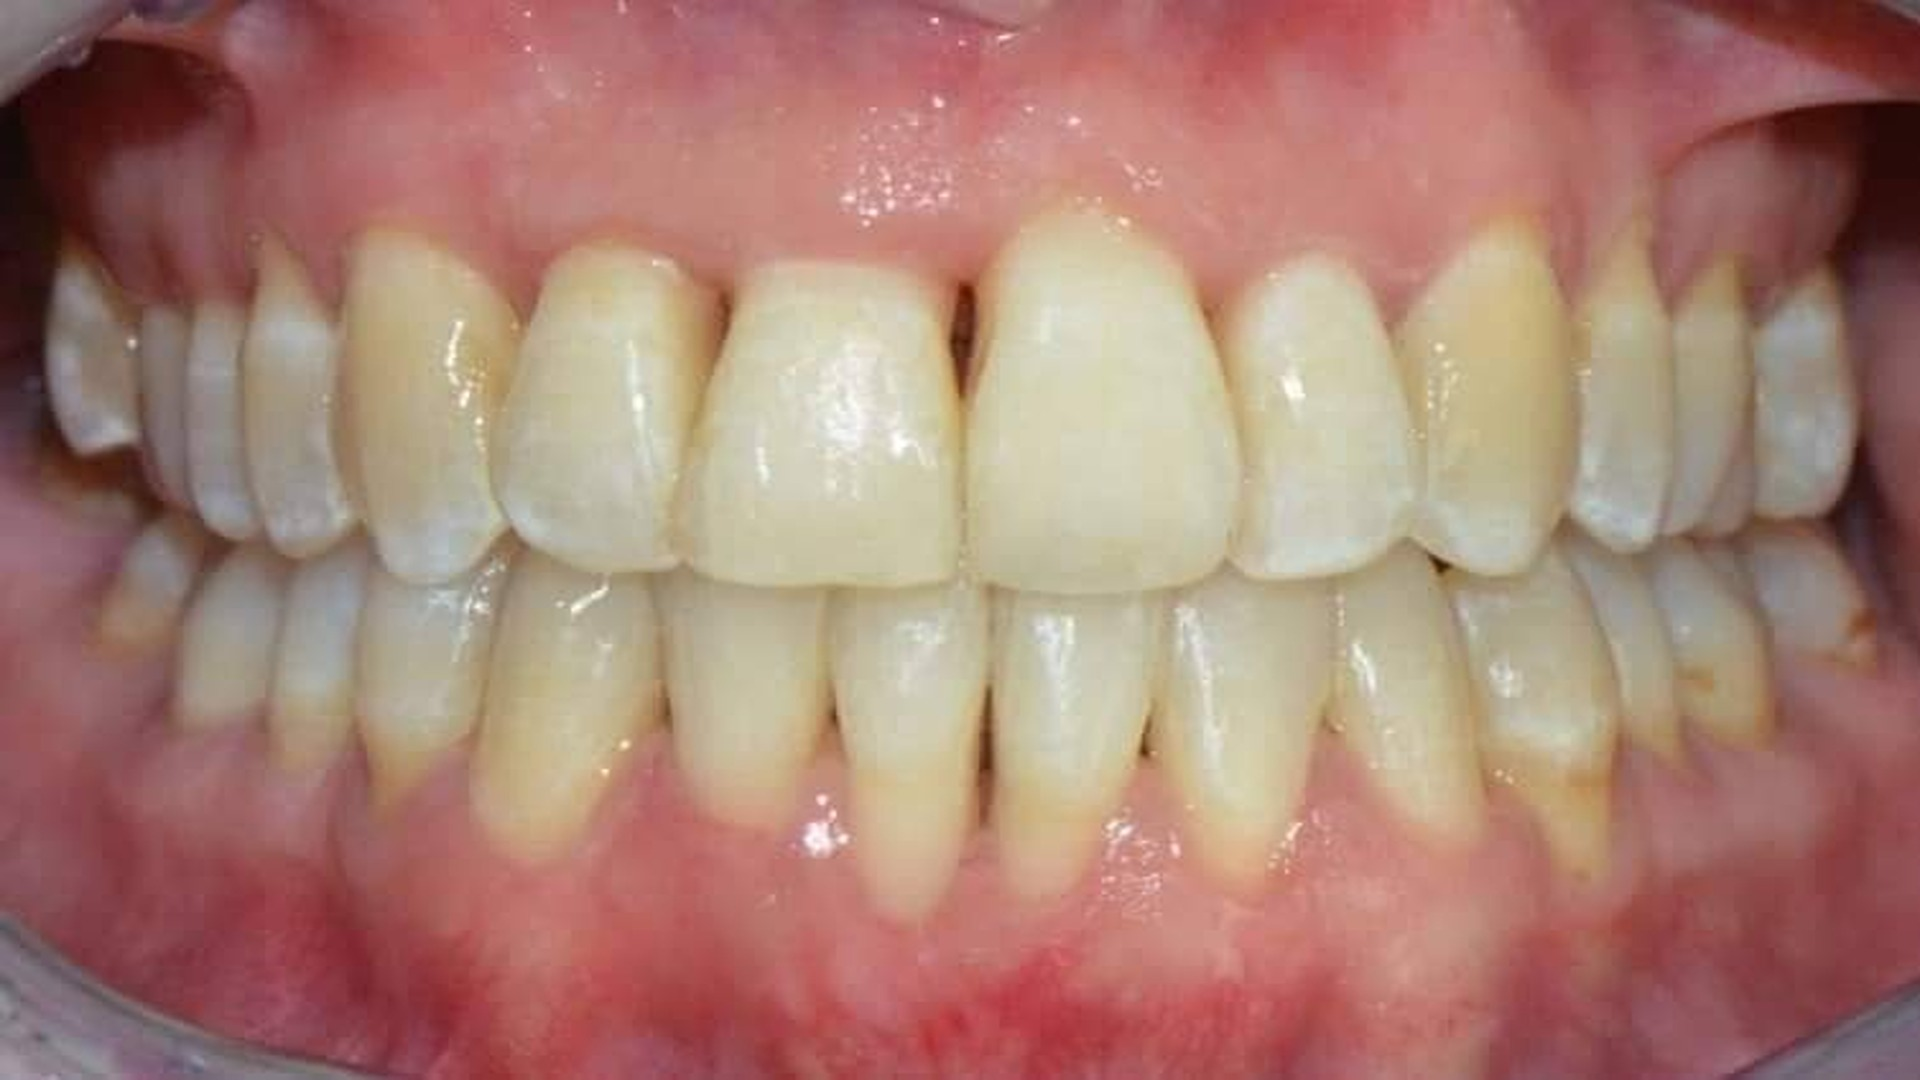tooth: (964, 207, 1242, 595), (671, 262, 963, 588), (490, 240, 730, 573), (332, 227, 522, 586), (1391, 216, 1577, 576), (1213, 253, 1415, 580), (1439, 551, 1620, 888), (1146, 561, 1340, 875), (468, 546, 660, 861), (830, 577, 991, 927), (989, 587, 1156, 906), (1554, 515, 1775, 755), (1323, 541, 1488, 848), (652, 564, 833, 830), (356, 553, 509, 821), (241, 226, 353, 560), (1570, 216, 1674, 553), (141, 305, 263, 540), (1661, 255, 1756, 539), (1754, 265, 1858, 519), (267, 531, 370, 778), (173, 542, 297, 735), (46, 244, 143, 457), (97, 511, 235, 660)
